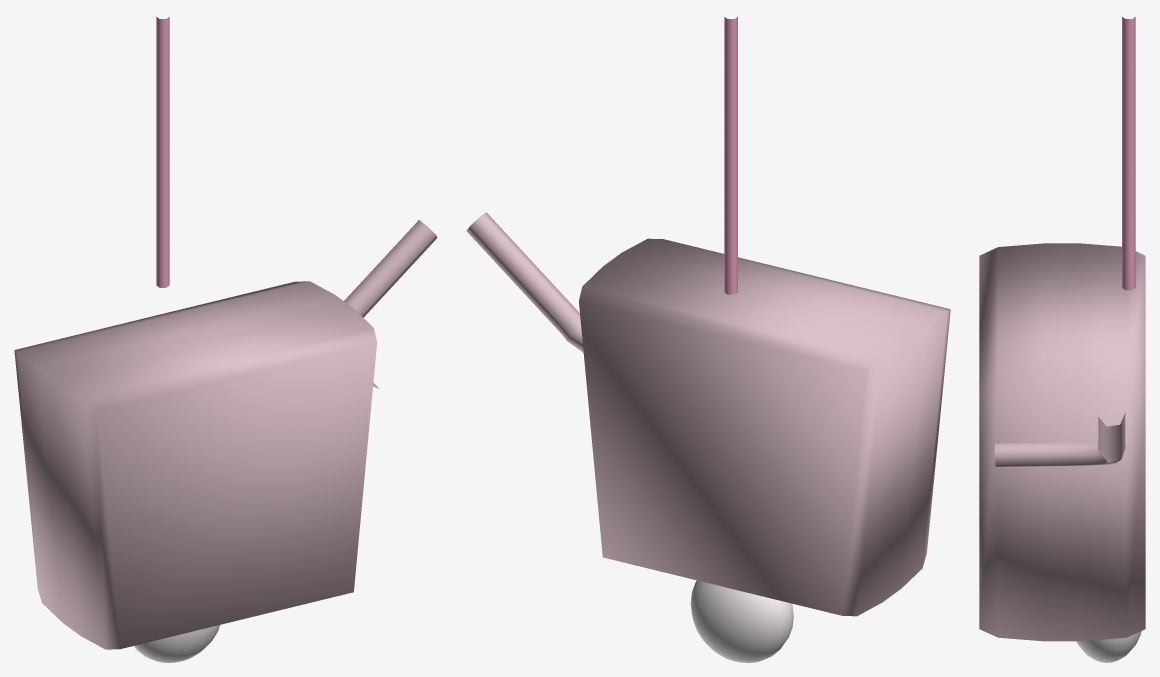
Rendered from decor_3_candy.glb.
The picture shows the model from 3 angles, left to right: view 1: azimuth 30°, elevation 25°; view 2: azimuth 150°, elevation 25°; view 3: azimuth 270°, elevation 25°; orthographic projection. The views are drawn at different scales.
Visible parts, largest first — view 1: decor_3_candy; view 2: decor_3_candy; view 3: decor_3_candy.
Part boxes in pixels (x1=…): decor_3_candy: x1=14, y1=17, x2=437, y2=662; decor_3_candy: x1=466, y1=17, x2=950, y2=662; decor_3_candy: x1=979, y1=16, x2=1145, y2=662.
Size of the model in its own units: 7.06 by 10.4 by 2.45.
